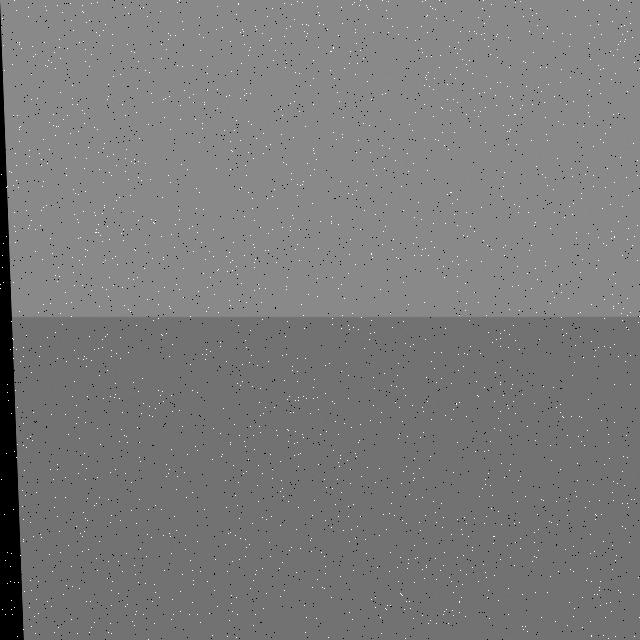shelf: (631, 172, 640, 342)
